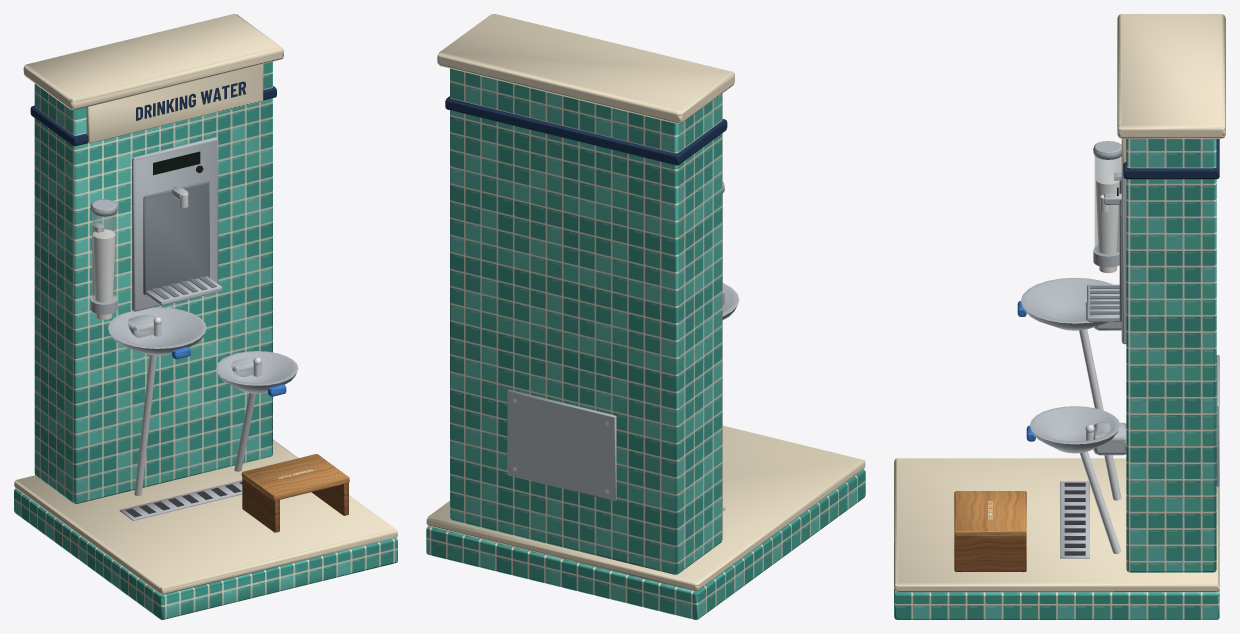
File: drinking_fountain.glb
3 views of the same model, side by side, from view 1: azimuth 30°, elevation 25°; view 2: azimuth 150°, elevation 25°; view 3: azimuth 270°, elevation 25° (orthographic). The views are drawn at different scales.
Parts seen in each view (by area): view 1: DrinkingFountainMesh; view 2: DrinkingFountainMesh; view 3: DrinkingFountainMesh.
Part boxes in pixels (x1,y1,x2,y2): DrinkingFountainMesh: [14, 14, 397, 619]; DrinkingFountainMesh: [426, 14, 865, 619]; DrinkingFountainMesh: [894, 14, 1225, 619].
Size of the model in its own units: 1 by 1.78 by 1.1.
18 materials, 6 textured.
